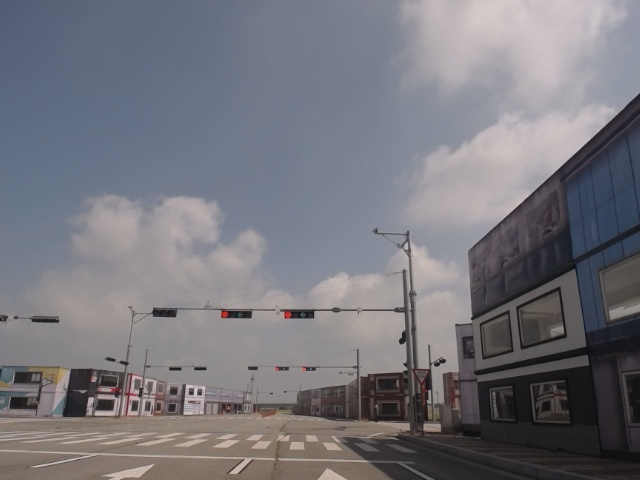left_green_4: (220, 310, 252, 318), (285, 311, 314, 319)
